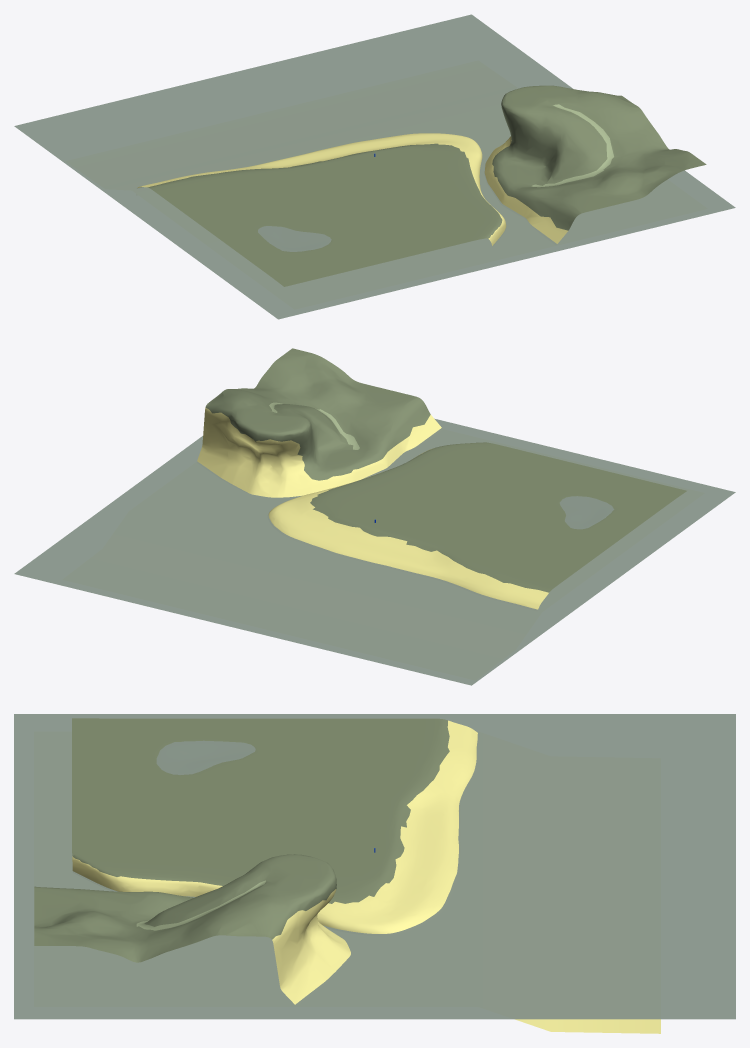
File: terrain.fbx
3 renders of one model, top to bottom at view 1: azimuth 30°, elevation 25°; view 2: azimuth 150°, elevation 25°; view 3: azimuth 270°, elevation 25°, orthographic. The views are drawn at different scales.
Parts seen in each view (by area): view 1: sea2, mainland1, hill1, lake1; view 2: sea2, mainland1, hill1, lake1; view 3: sea2, mainland1, hill1, lake1, sea_floor1.
Part boxes in pixels (box(x1,y1,x2,y2)): sea2: box(14, 14, 735, 319); mainland1: box(137, 133, 506, 286); hill1: box(484, 85, 706, 243); lake1: box(258, 226, 331, 251); sea2: box(14, 418, 735, 685); mainland1: box(268, 442, 686, 609); hill1: box(197, 348, 441, 497); lake1: box(559, 496, 614, 529); sea2: box(14, 714, 735, 1019); mainland1: box(72, 718, 477, 933); hill1: box(34, 854, 350, 1004); lake1: box(156, 740, 255, 774); sea_floor1: box(515, 1019, 660, 1033).
Size of the model in its own units: 27136 by 4570 by 27136.
